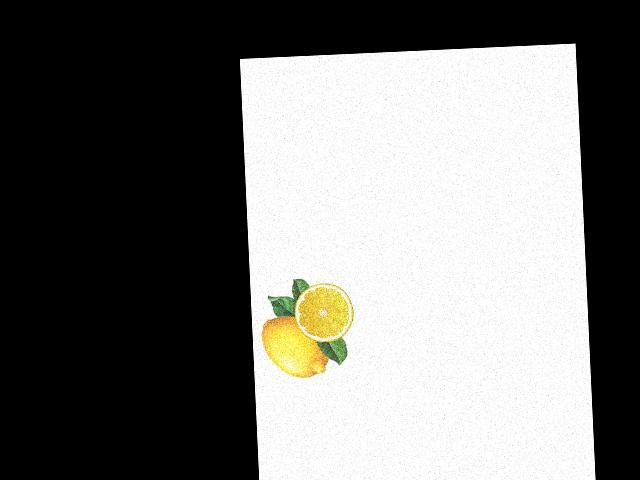lemon: (260, 306, 331, 379)
